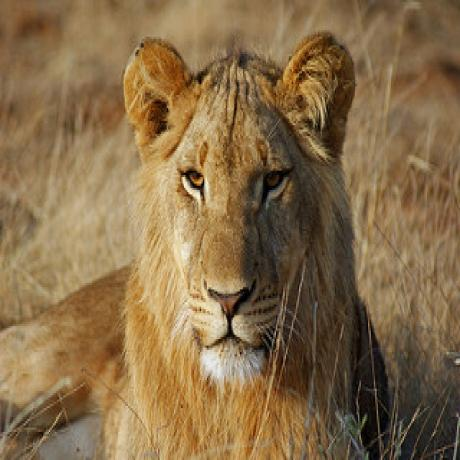Lion: (0, 33, 387, 460)
